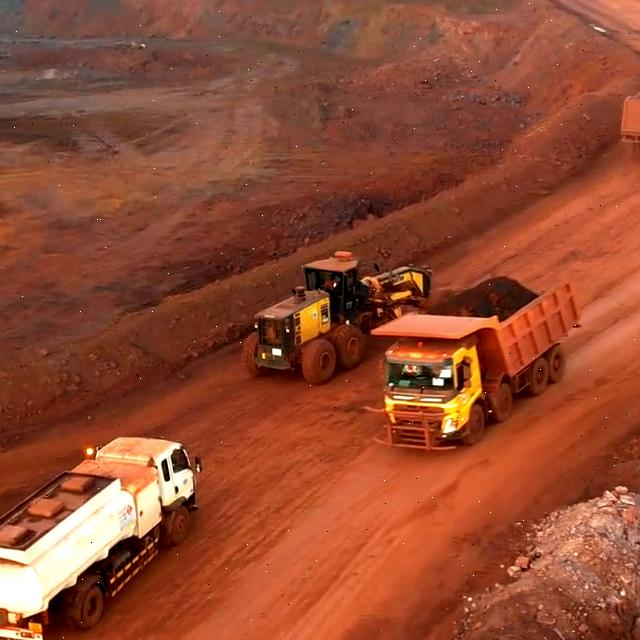Dumper truck: (378, 327, 496, 448)
